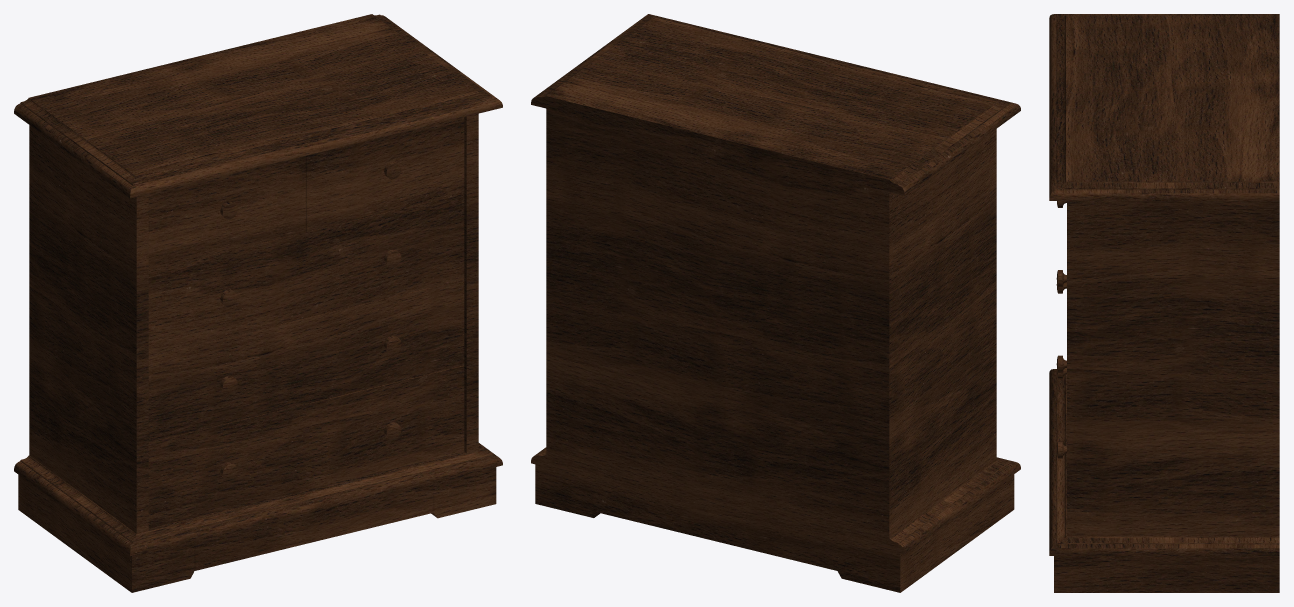
3 renders of one model, left to right at view 1: azimuth 30°, elevation 25°; view 2: azimuth 150°, elevation 25°; view 3: azimuth 270°, elevation 25°, orthographic.
Visible parts, largest first — view 1: Object_4; view 2: Object_4; view 3: Object_4.
Boxes of the visible parts, box(x1,y1,x2,y2) form: Object_4: box(14, 14, 502, 592); Object_4: box(531, 14, 1020, 592); Object_4: box(1049, 14, 1279, 592).
Size of the model in its own units: 0.89 by 0.9339 by 0.48.
Materials: 1 (1 with a texture image).
